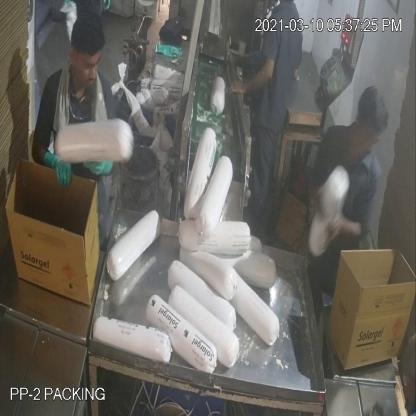no_glove: (229, 58, 280, 111), (324, 198, 366, 256)
